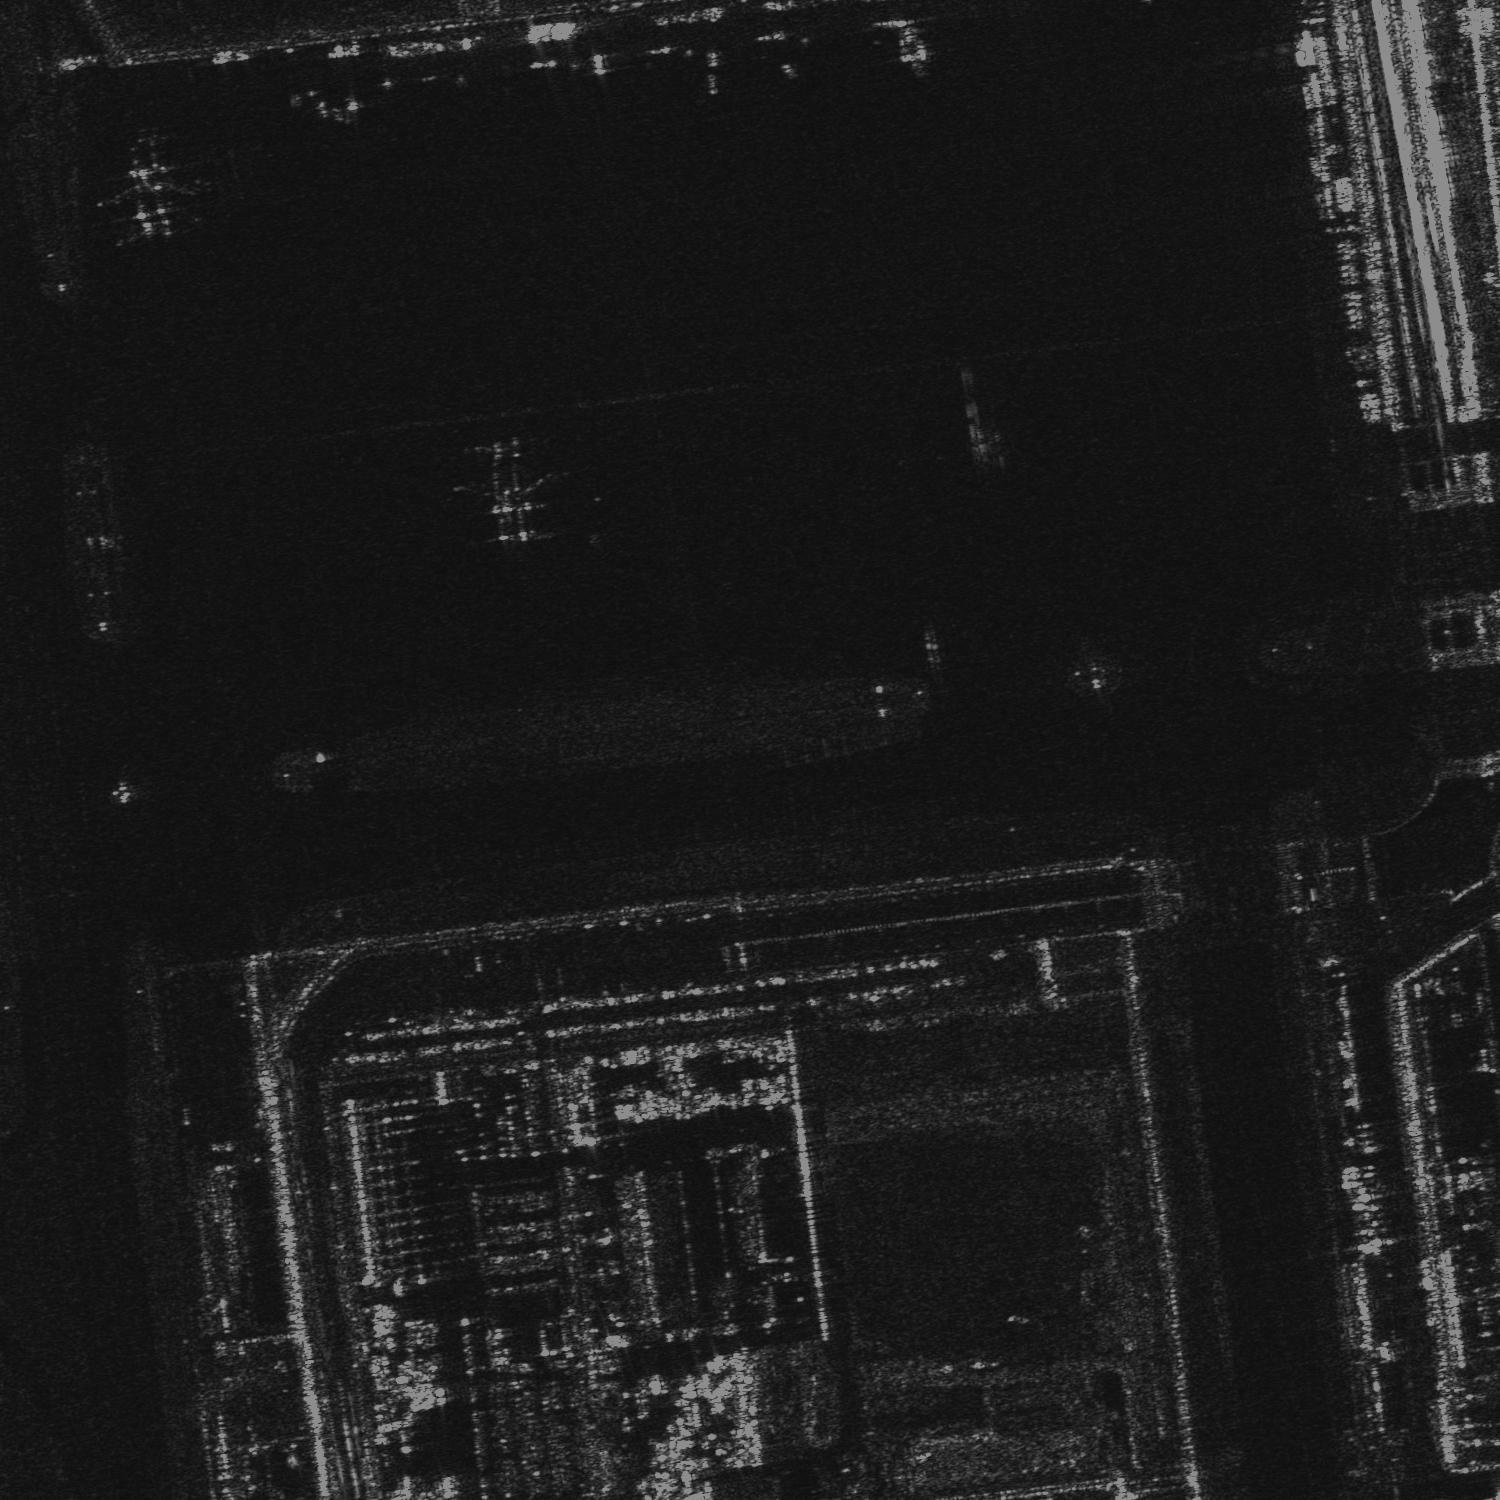A220: (95, 144, 202, 250)
A330: (459, 430, 566, 541), (1067, 641, 1120, 690)
